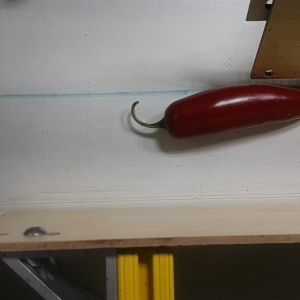Cut Point: (155, 97, 190, 140)
